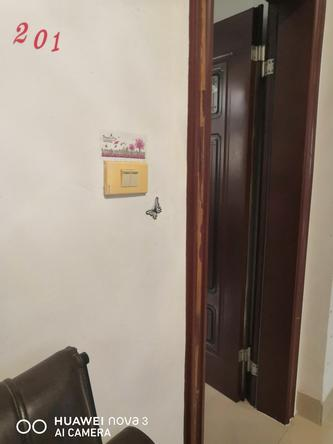switch: (129, 170, 142, 186), (120, 170, 131, 188)
